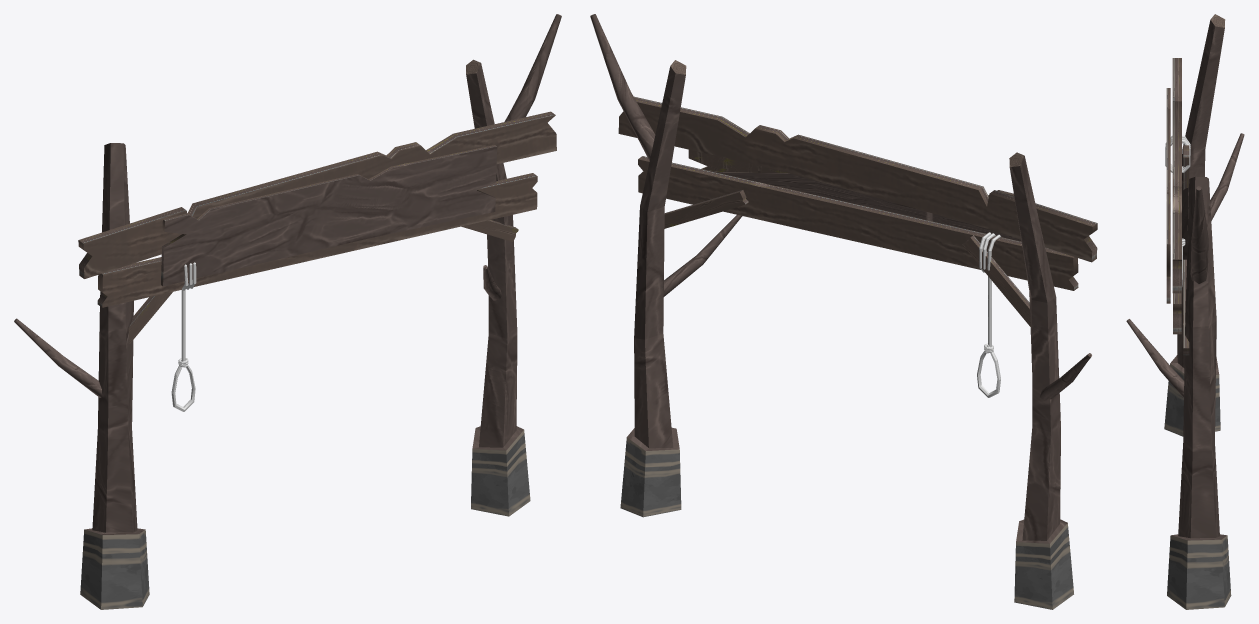
Rendered from SM_Gate.fbx.
3 renders of one model, left to right at view 1: azimuth 30°, elevation 25°; view 2: azimuth 150°, elevation 25°; view 3: azimuth 270°, elevation 25°, orthographic. The views are drawn at different scales.
Visible parts, largest first — view 1: Box362, Object394, Object393, Circle015; view 2: Box362, Object393, Object394, Circle015; view 3: Object393, Object394, Box362, Circle015.
Boxes of the visible parts, x1,y1,x2,y2 form: Box362: (78,111,556,343); Object394: (14,143,149,609); Object393: (466,14,561,516); Circle015: (171,262,196,411); Box362: (618,96,1097,326); Object393: (590,14,742,517); Object394: (1009,152,1091,609); Circle015: (977,232,1000,397); Object393: (1126,176,1231,609); Object394: (1164,14,1244,436); Box362: (1166,58,1189,355); Circle015: (1165,135,1190,286).
Size of the model in its own units: 707 by 611 by 149.
